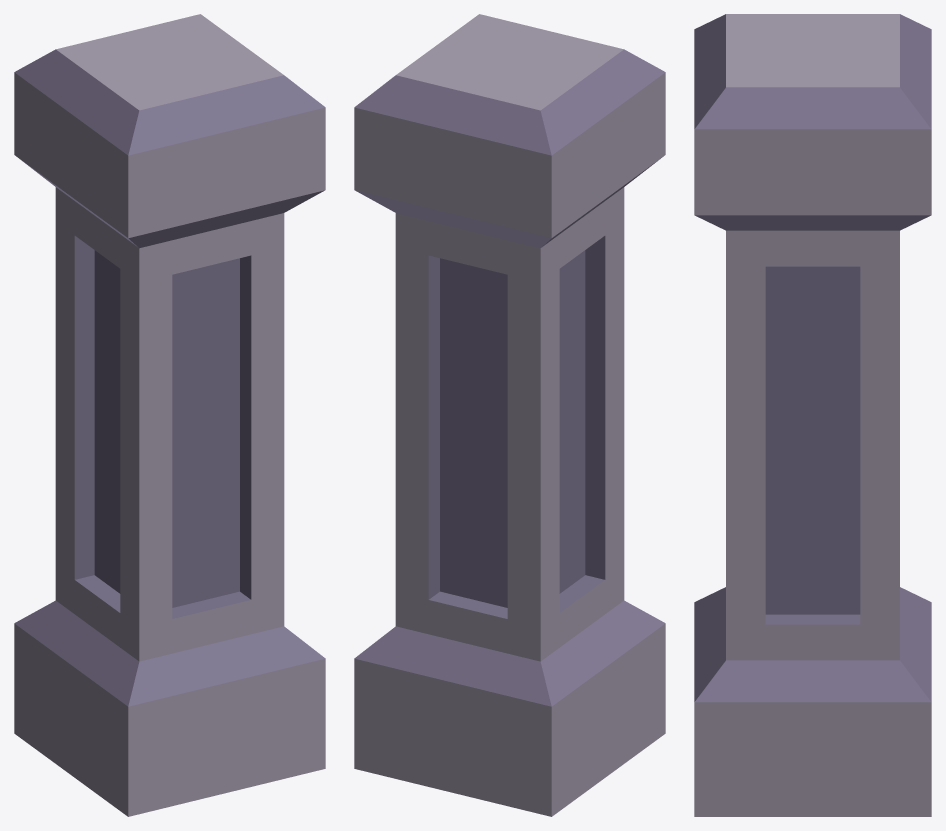
The model's file is statue_column.glb.
The picture shows the model from 3 angles, left to right: view 1: azimuth 30°, elevation 25°; view 2: azimuth 150°, elevation 25°; view 3: azimuth 270°, elevation 25°; orthographic projection. The views are drawn at different scales.
Visible parts, largest first — view 1: statue_column; view 2: statue_column; view 3: statue_column.
Boxes of the visible parts, x1,y1,x2,y2 form: statue_column: (14,14,325,816); statue_column: (354,14,665,816); statue_column: (694,14,931,816).
Size of the model in its own units: 0.57 by 1.9 by 0.57.
